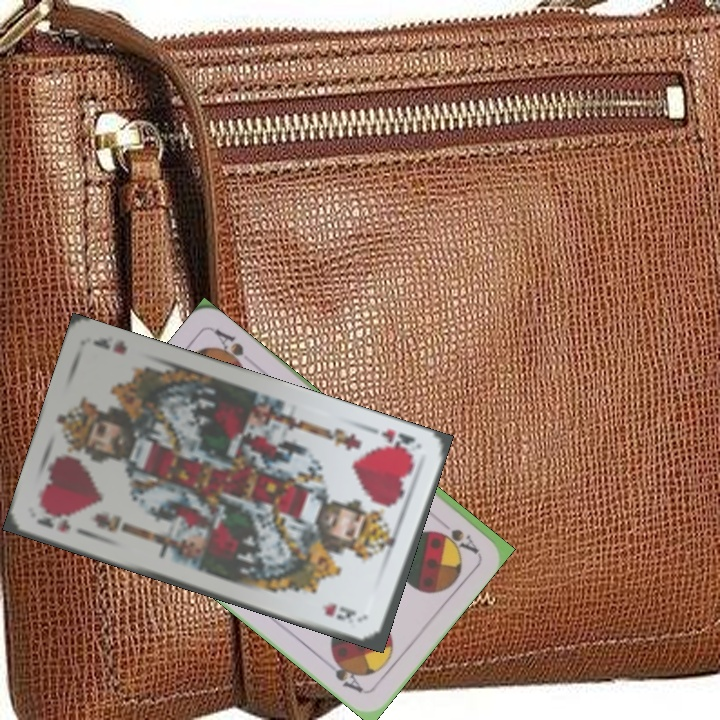HK: (33, 506, 88, 539), (365, 425, 417, 458)
SA: (431, 512, 480, 556)
